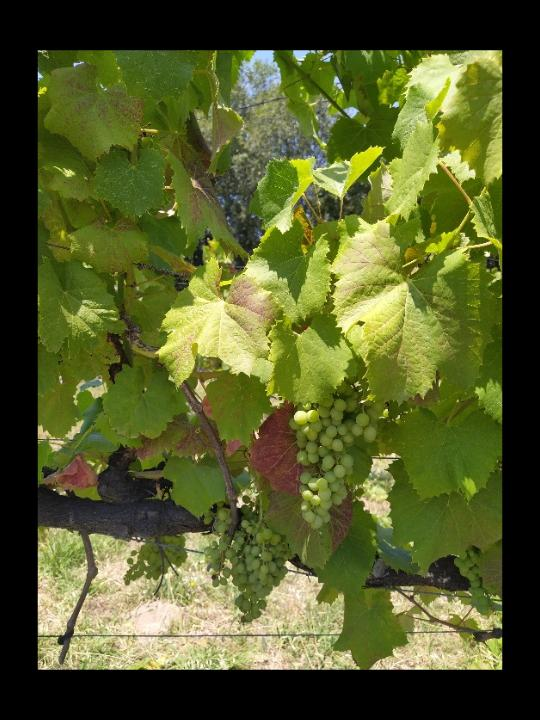grape: (290, 376, 378, 533), (199, 487, 292, 624), (119, 536, 187, 595)
